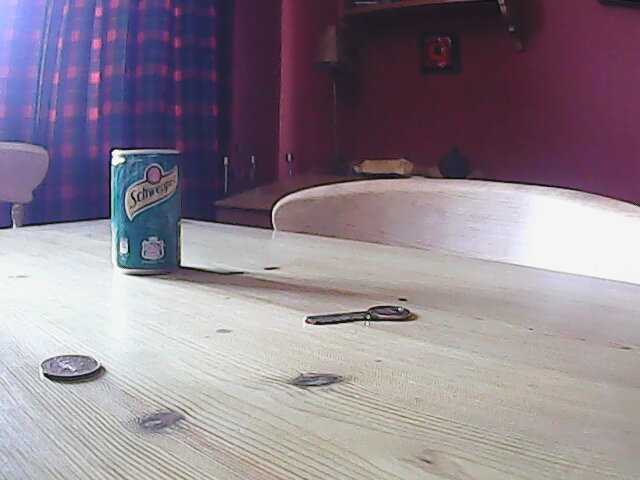Can: (104, 146, 185, 279)
Coin: (38, 352, 109, 384)
Key: (307, 304, 415, 329)
